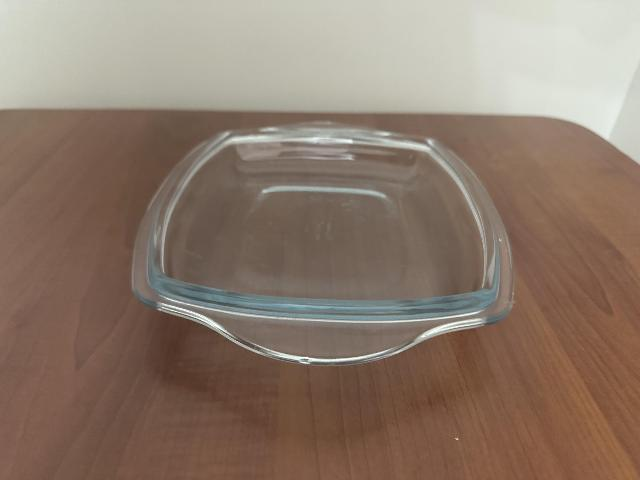Cam: (135, 122, 510, 367)
